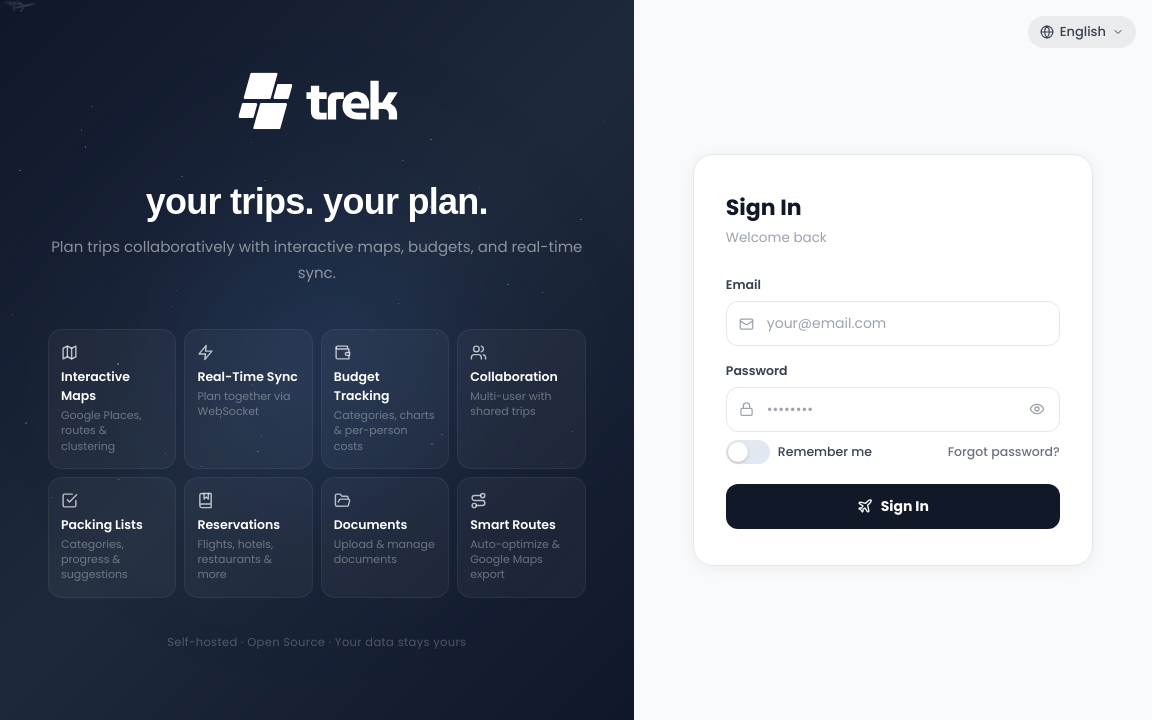
Scenario: LoginPage › FE-PAGE-LOGIN-004: Loading state while login in progress › disables submit button and shows spinner during login
Type "user@example.com" into the field with placeholder "your@email.com" at (893, 324), box [726,301,1060,346]
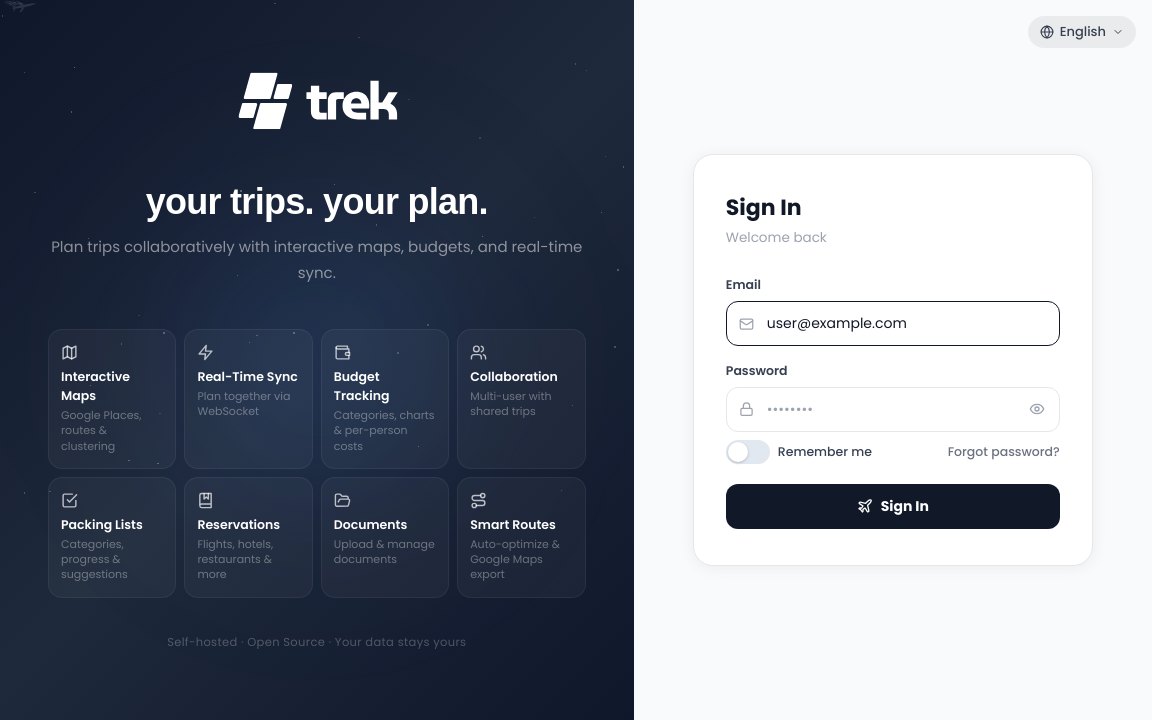
Type "password123" into the password field with placeholder "••••••••" at (893, 409), box [726,387,1060,432]
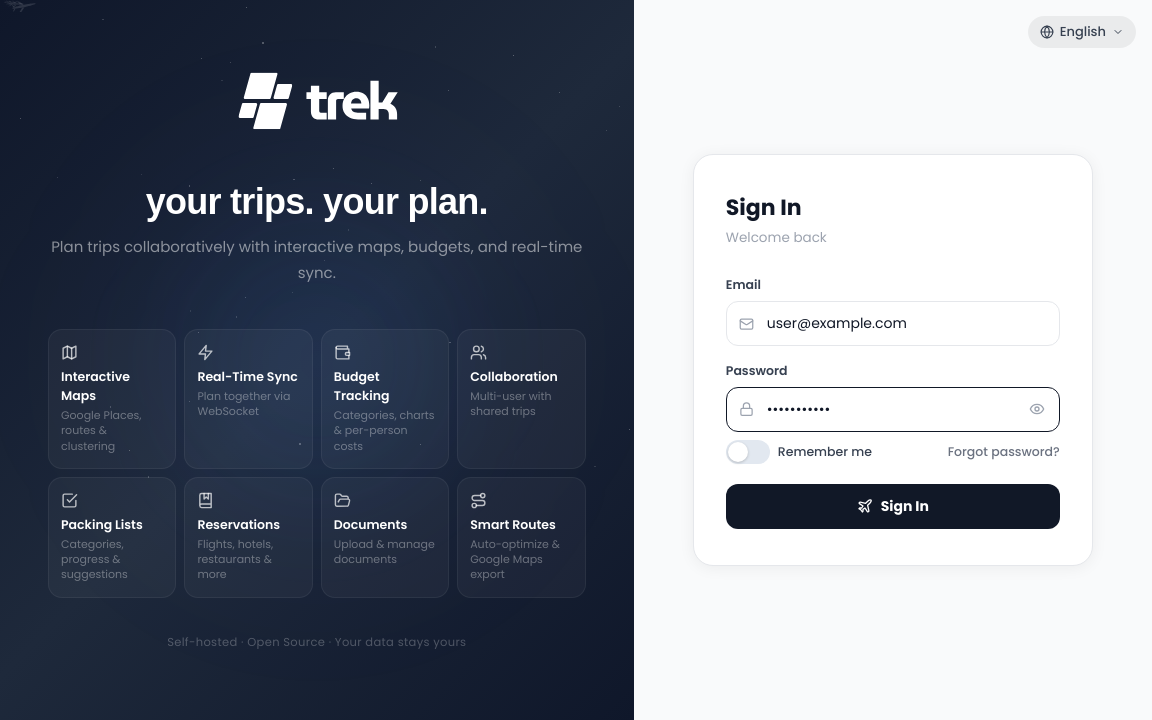
Click the button "Sign In" at (893, 506), box [726,484,1060,529]
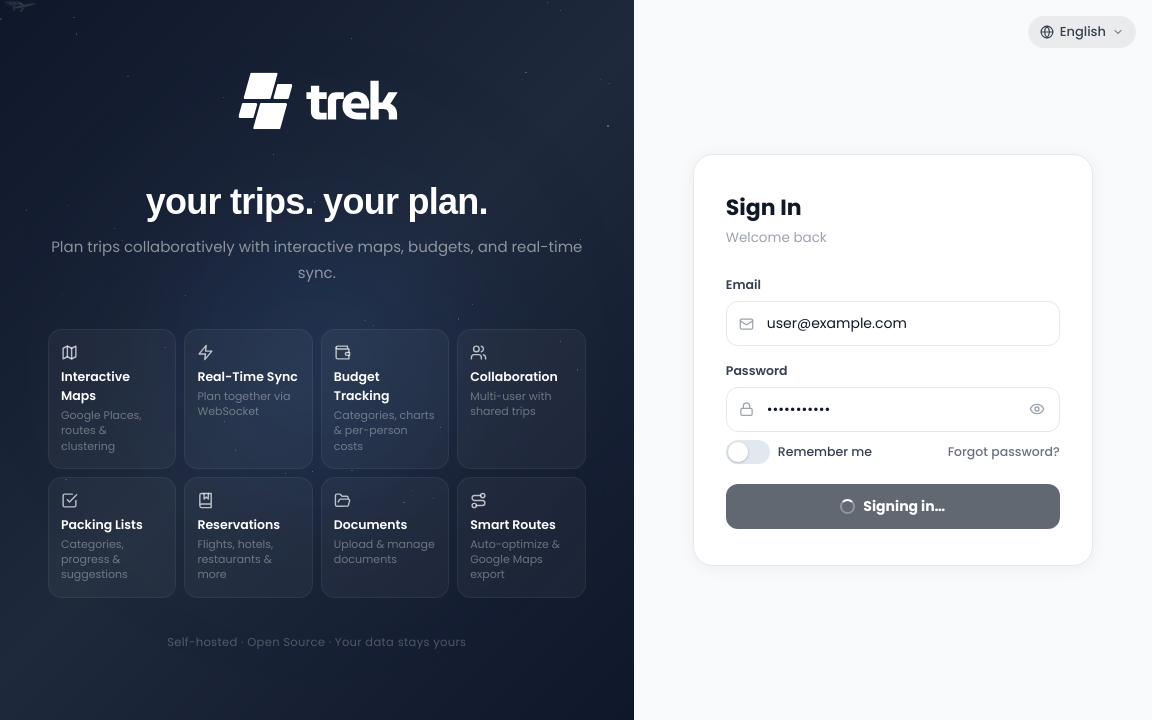
Now the button "Signing in…" is disabled, box [726,484,1060,529]
